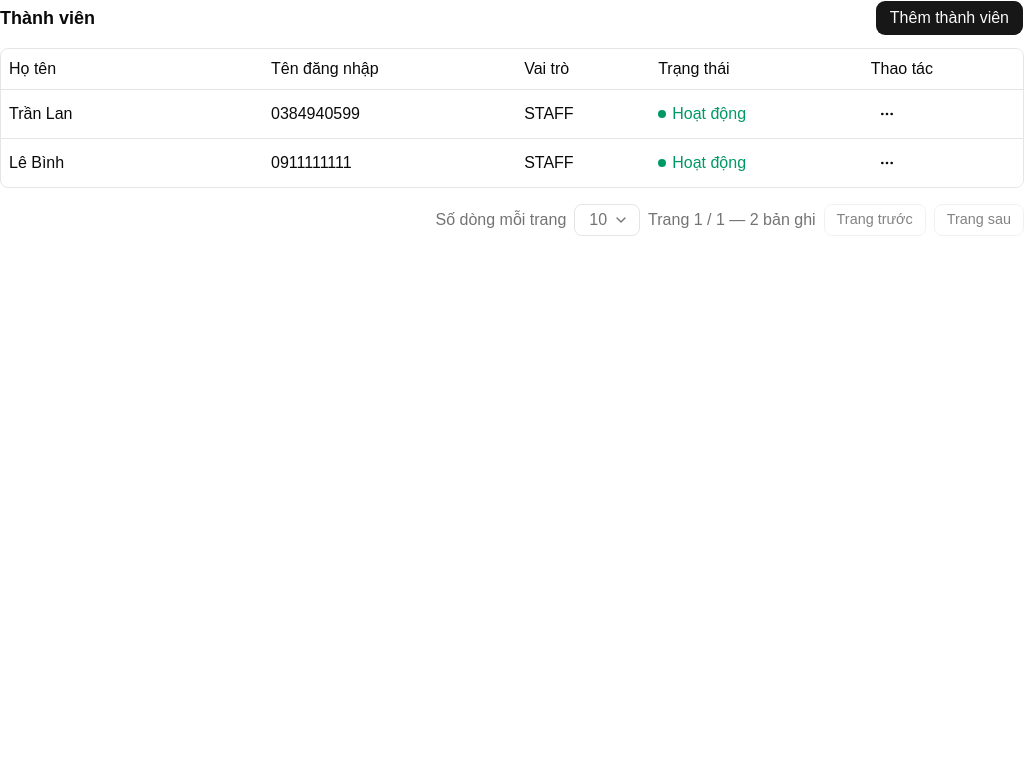
WarehouseMembers › bấm dòng thành viên → sheet chi tiết người dùng, chỉ xem (không nút thao tác)
This screenshot has width=1024, height=768.
Click the button with aria-label "Xem chi tiết Trần Lan" at x=41, y=114, box [9,102,72,126]
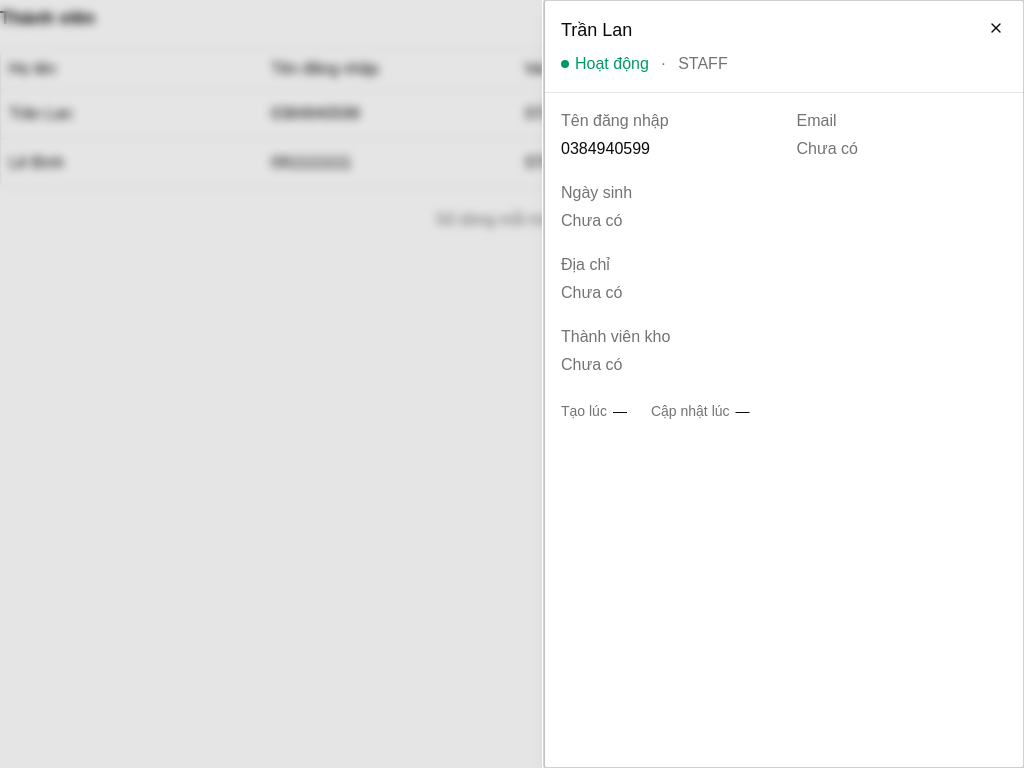
Check: the text "Tên đăng nhập" is shown, box [561,112,669,129]
